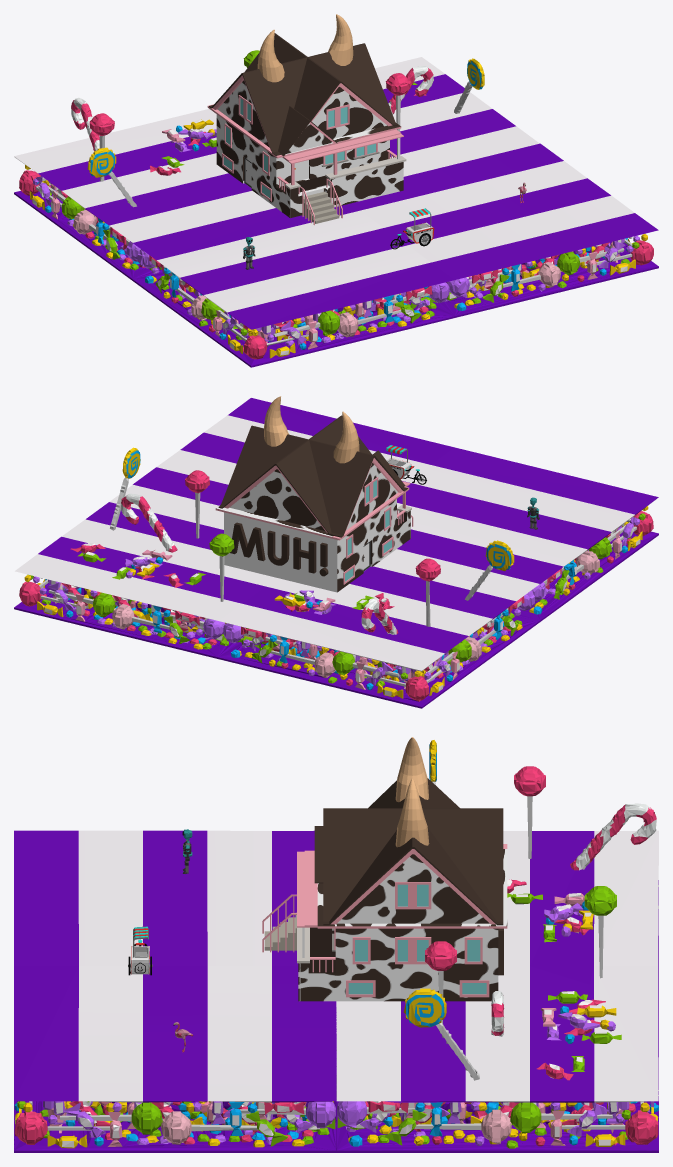
The picture shows the model from 3 angles, top to bottom: view 1: azimuth 30°, elevation 25°; view 2: azimuth 150°, elevation 25°; view 3: azimuth 270°, elevation 25°; orthographic projection. The views are drawn at different scales.
Visible parts, largest first — view 1: TERRAIN_CANDY, Cube.1242, VEHICLES_SNOWBAL_BIKE; view 2: TERRAIN_CANDY, Cube.1242, VEHICLES_SNOWBAL_BIKE; view 3: TERRAIN_CANDY, Cube.1242, VEHICLES_SNOWBAL_BIKE.
Boxes of the visible parts, x1,y1,x2,y2 form: TERRAIN_CANDY: [14, 50, 658, 367]; Cube.1242: [207, 14, 406, 225]; VEHICLES_SNOWBAL_BIKE: [390, 208, 434, 249]; TERRAIN_CANDY: [14, 398, 658, 708]; Cube.1242: [215, 396, 413, 592]; VEHICLES_SNOWBAL_BIKE: [386, 445, 426, 484]; TERRAIN_CANDY: [14, 740, 658, 1152]; Cube.1242: [262, 737, 507, 1001]; VEHICLES_SNOWBAL_BIKE: [128, 926, 152, 975].
Size of the model in its own units: 4059 by 1847 by 4000.
32 materials, 2 textured.
